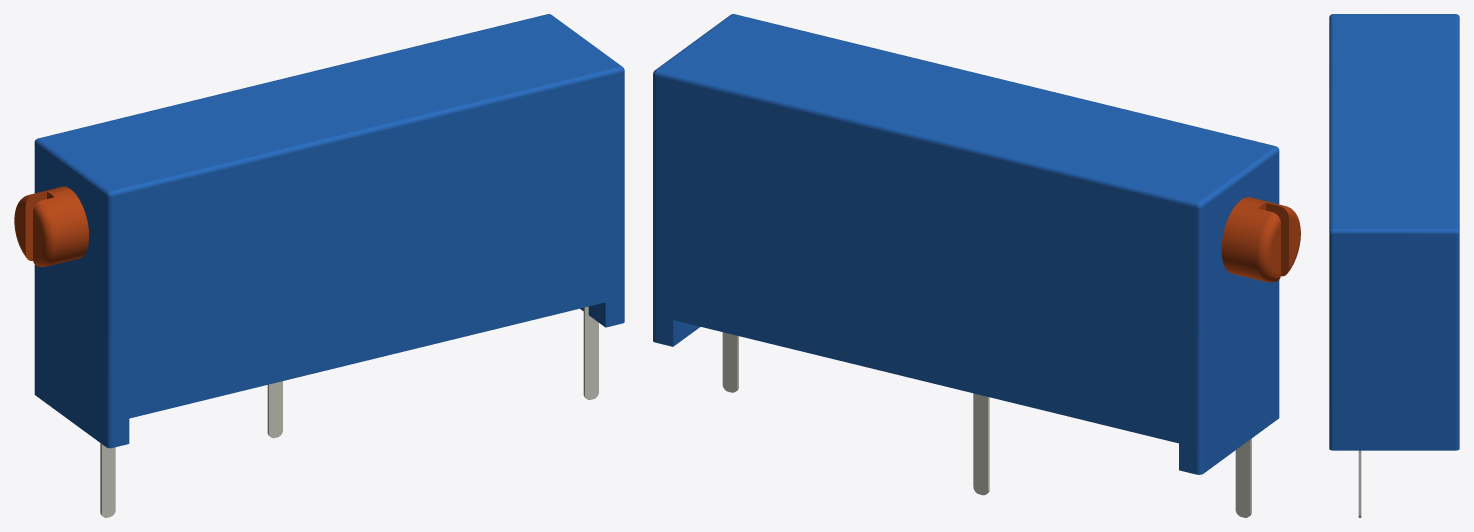
File: kc-potentiometer_bourns_3009y_horizontal.glb
3 renders of one model, left to right at view 1: azimuth 30°, elevation 25°; view 2: azimuth 150°, elevation 25°; view 3: azimuth 270°, elevation 25°, orthographic. The views are drawn at different scales.
Visible parts, largest first — view 1: 0_0.16666666666666666_0.5_0, 0.4166666666666667_0.08333333333333333_0_0, 0.6666666666666666_0.6666666666666666_0.5833333333333334_0.8; view 2: 0_0.16666666666666666_0.5_0, 0.4166666666666667_0.08333333333333333_0_0, 0.6666666666666666_0.6666666666666666_0.5833333333333334_0.8; view 3: 0_0.16666666666666666_0.5_0, 0.6666666666666666_0.6666666666666666_0.5833333333333334_0.8.
Boxes of the visible parts, <box> form: 0_0.16666666666666666_0.5_0: <box>34,14,624,448</box>; 0.4166666666666667_0.08333333333333333_0_0: <box>14,186,89,266</box>; 0.6666666666666666_0.6666666666666666_0.5833333333333334_0.8: <box>100,306,598,517</box>; 0_0.16666666666666666_0.5_0: <box>653,14,1279,474</box>; 0.4166666666666667_0.08333333333333333_0_0: <box>1221,197,1300,282</box>; 0.6666666666666666_0.6666666666666666_0.5833333333333334_0.8: <box>722,332,1251,517</box>; 0_0.16666666666666666_0.5_0: <box>1329,14,1459,450</box>; 0.6666666666666666_0.6666666666666666_0.5833333333333334_0.8: <box>1358,450,1361,517</box>.
Size of the model in its own units: 2.06 by 1.2 by 0.4831.
